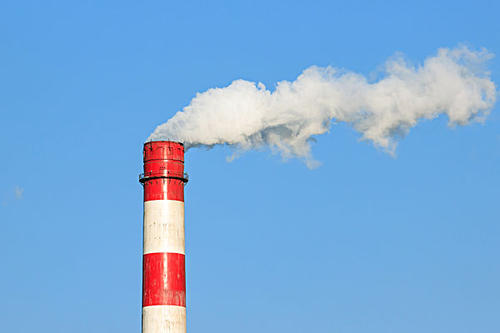smoke: (157, 54, 488, 131)
